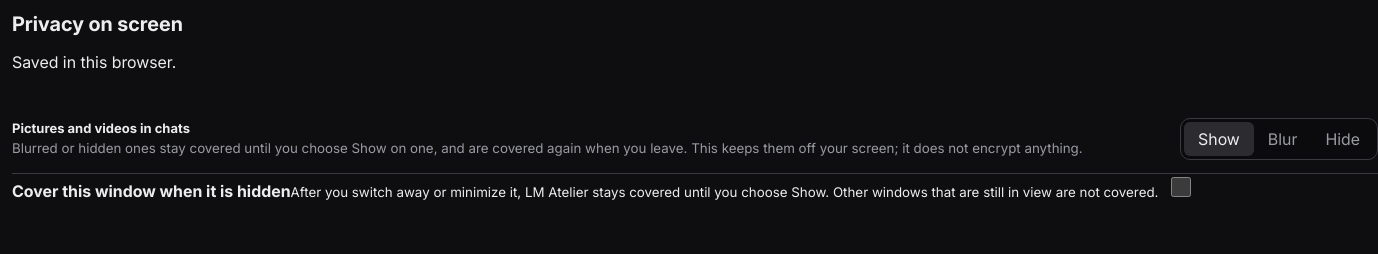
Test: the setting › says a choice this browser cannot save was not changed
Click the button "Hide": coordinates (1343, 139) [1311,122,1374,156]
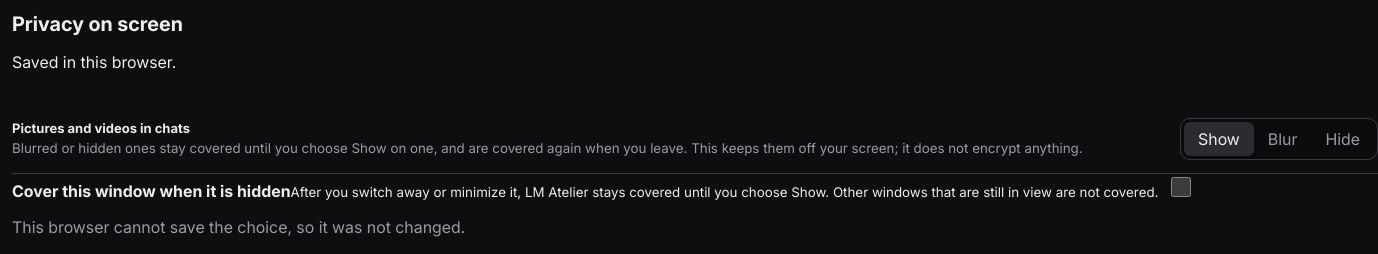
Expected: the message reads "This browser cannot save the choice, so it was not changed.", [12,217,465,237]
